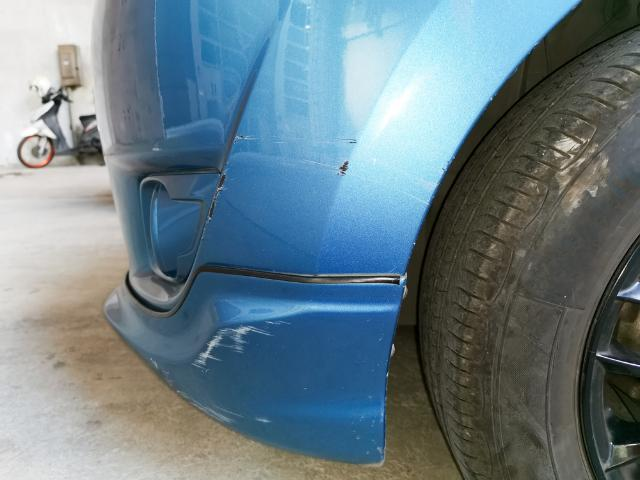scratch: (200, 131, 440, 239), (152, 358, 245, 425), (188, 319, 288, 370)
